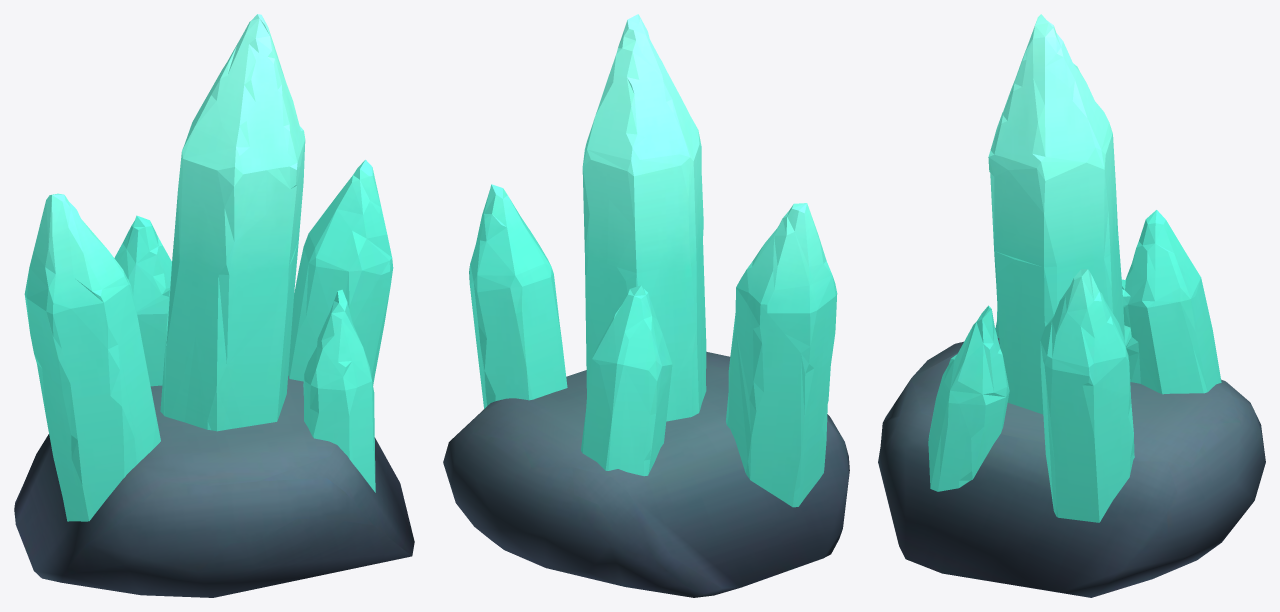
File: crystal-cluster.glb
3 renders of one model, left to right at view 1: azimuth 30°, elevation 25°; view 2: azimuth 150°, elevation 25°; view 3: azimuth 270°, elevation 25°, orthographic. The views are drawn at different scales.
Visible parts, largest first — view 1: crystal, rock; view 2: crystal, rock; view 3: crystal, rock.
Part boxes in pixels (x1=…): crystal: x1=24, y1=14, x2=393, y2=521; rock: x1=14, y1=375, x2=414, y2=597; crystal: x1=469, y1=14, x2=837, y2=507; rock: x1=443, y1=351, x2=849, y2=597; crystal: x1=928, y1=14, x2=1221, y2=522; rock: x1=878, y1=338, x2=1265, y2=597.
Size of the model in its own units: 0.3381 by 0.4581 by 0.316.
Materials: 2 (2 with a texture image).
